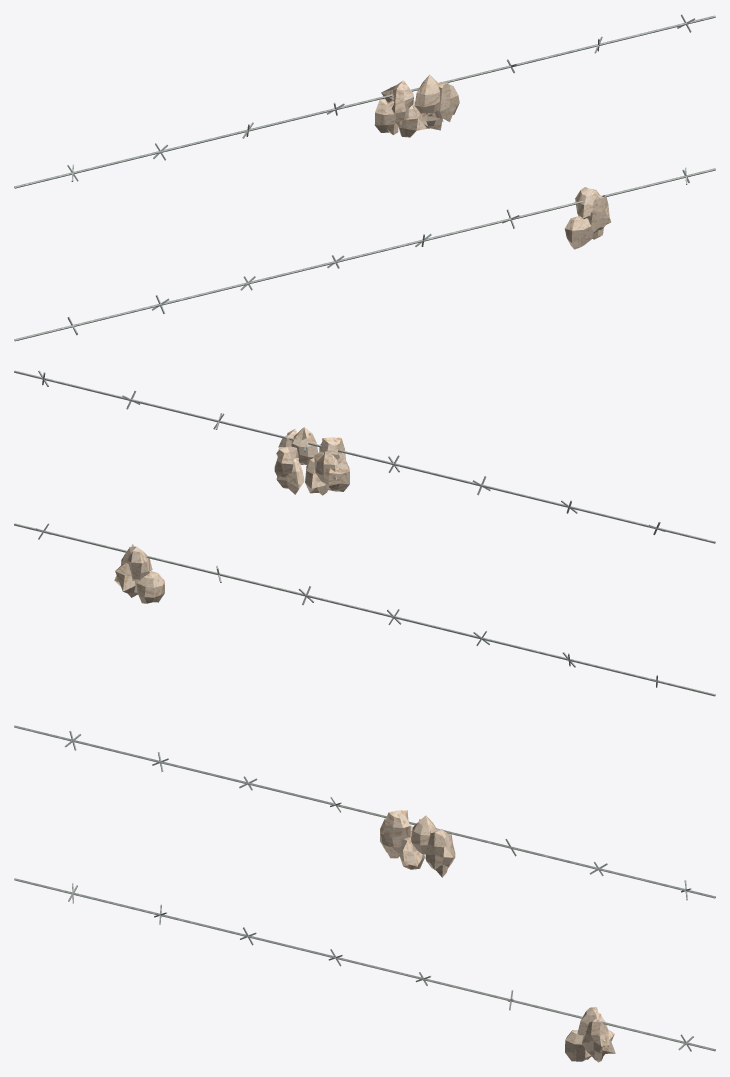
Rendered from wool_on_wire_a.glb.
3 views of the same model, one above another, from view 1: azimuth 30°, elevation 25°; view 2: azimuth 150°, elevation 25°; view 3: azimuth 330°, elevation 25° (orthographic).
Parts seen in each view (by area): view 1: wool_on_wire_a_LOD0; view 2: wool_on_wire_a_LOD0; view 3: wool_on_wire_a_LOD0.
Part boxes in pixels (<box>): wool_on_wire_a_LOD0: <box>14,14,715,341</box>; wool_on_wire_a_LOD0: <box>14,370,715,696</box>; wool_on_wire_a_LOD0: <box>14,725,715,1062</box>.
Bounding box in the file's own units: 1.2 × 0.3449 × 0.0565.
2 materials, 2 textured.
